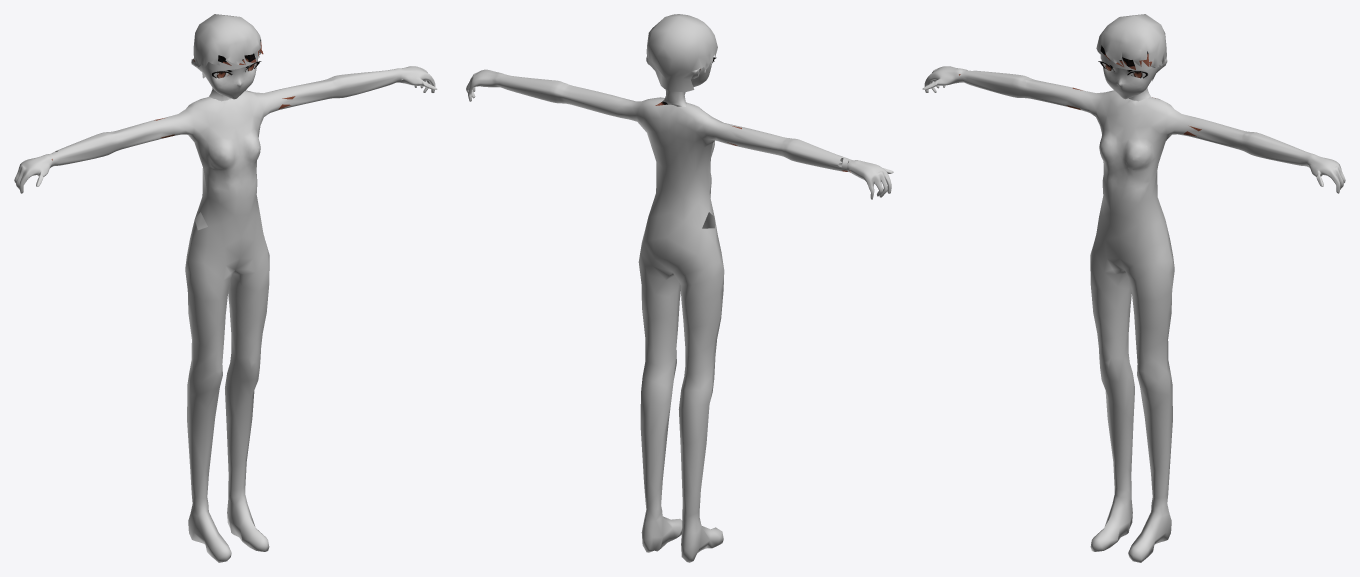
Rendered from Izzy_Demo.fbx.
The picture shows the model from 3 angles, left to right: view 1: azimuth 30°, elevation 25°; view 2: azimuth 150°, elevation 25°; view 3: azimuth 330°, elevation 25°; orthographic projection.
Parts seen in each view (by area): view 1: Head.001; view 2: Head.001; view 3: Head.001.
Part boxes in pixels (bbox=[...]): Head.001: bbox=[14, 14, 437, 562]; Head.001: bbox=[466, 14, 893, 562]; Head.001: bbox=[922, 14, 1345, 562].
Bounding box in the file's own units: 88.17 × 107 × 13.78.
